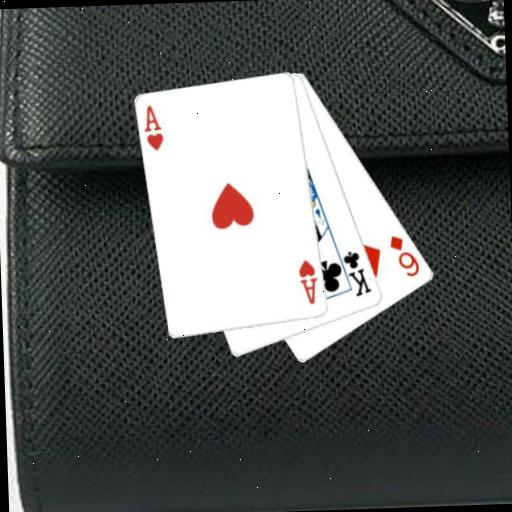6D: (386, 232, 421, 280)
AH: (141, 101, 166, 152), (295, 256, 320, 306)
KC: (333, 246, 374, 299)
